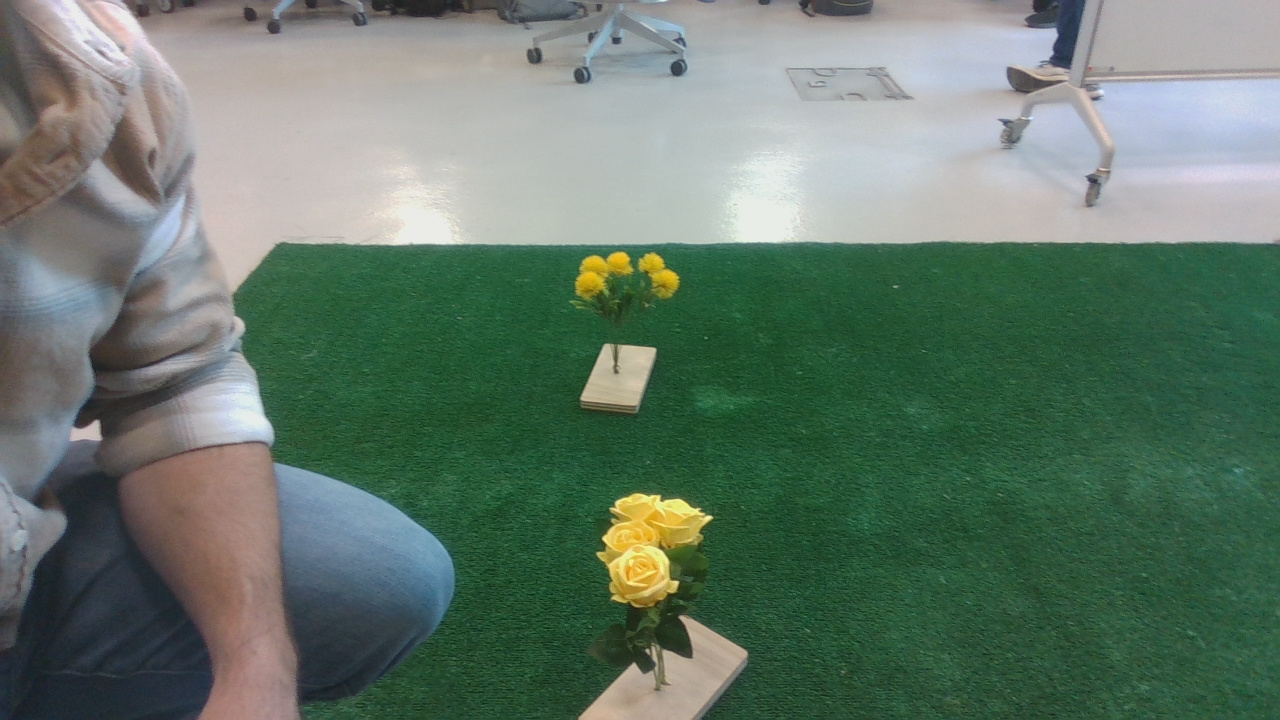dandelion: (570, 246, 694, 330)
rose: (575, 483, 728, 676)
